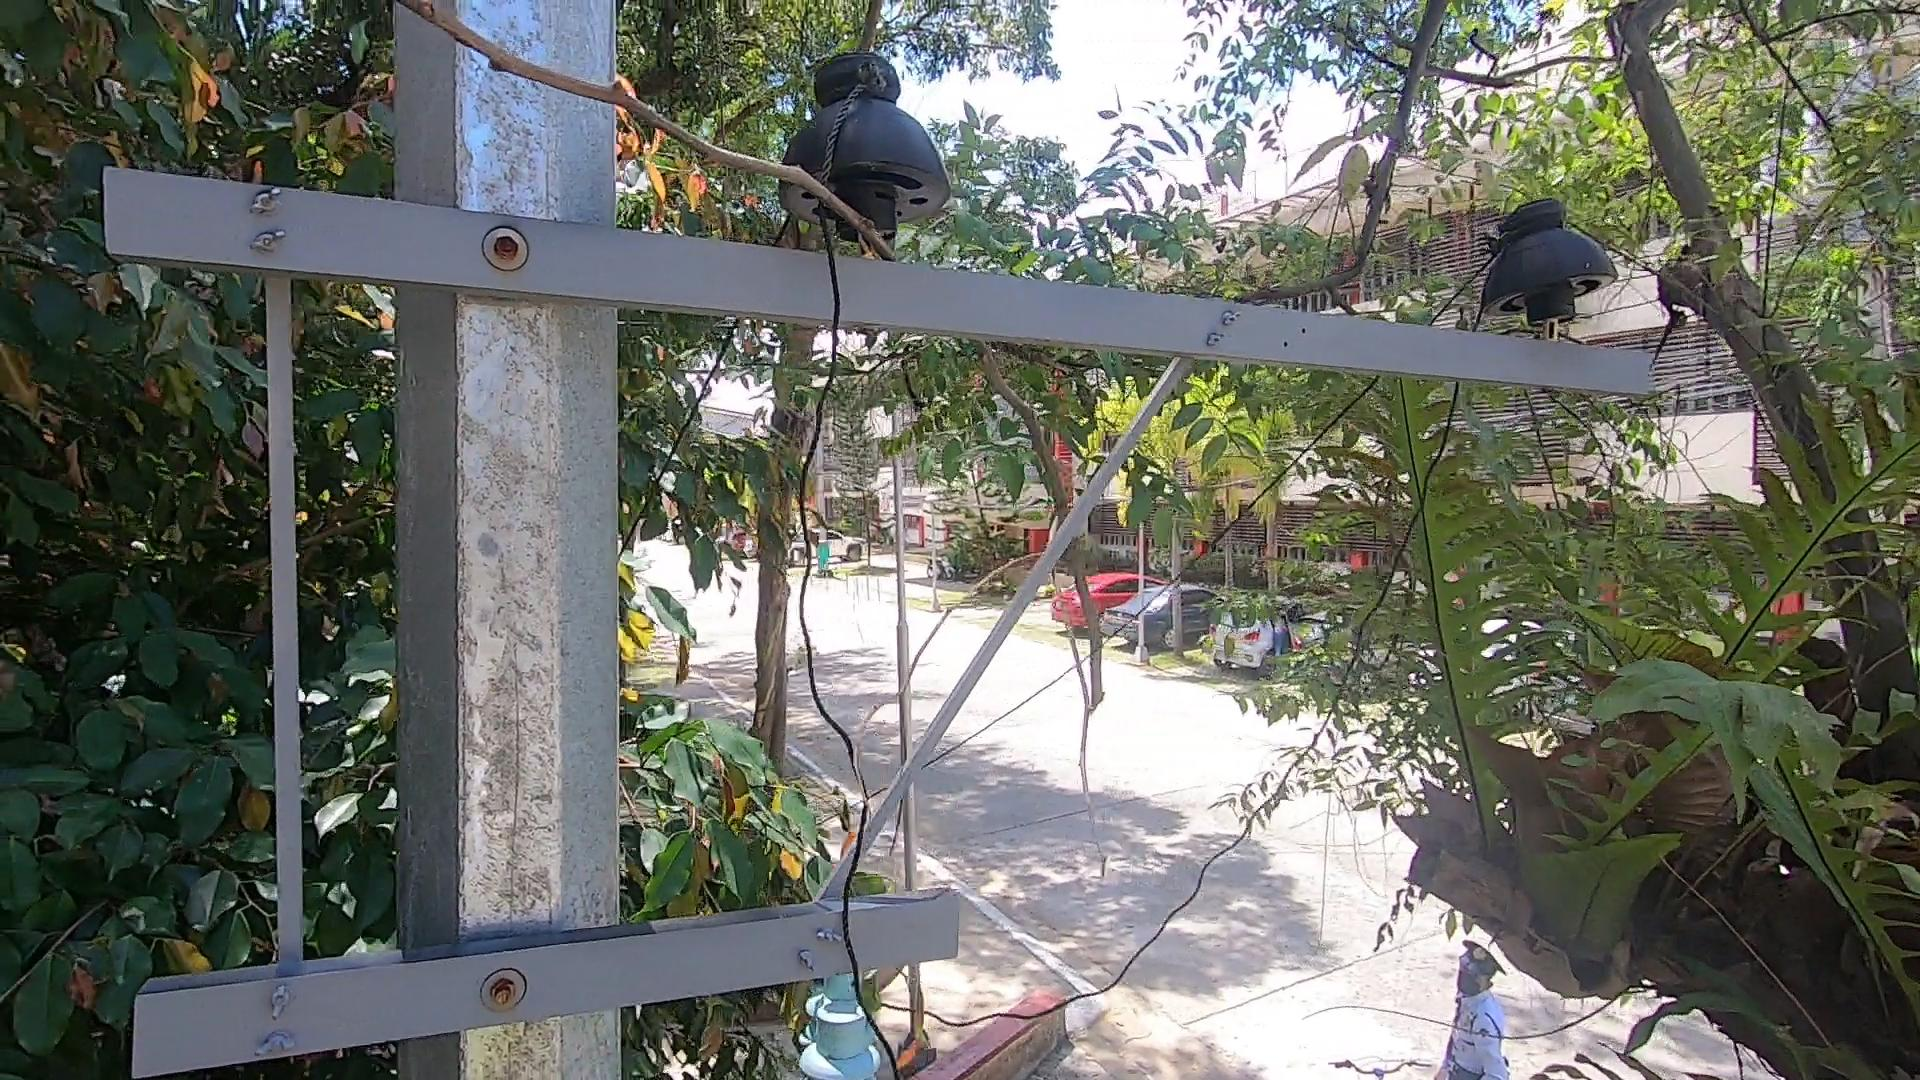branch with leaves: (704, 824, 893, 899)
tree branch: (386, 1, 1118, 699)
